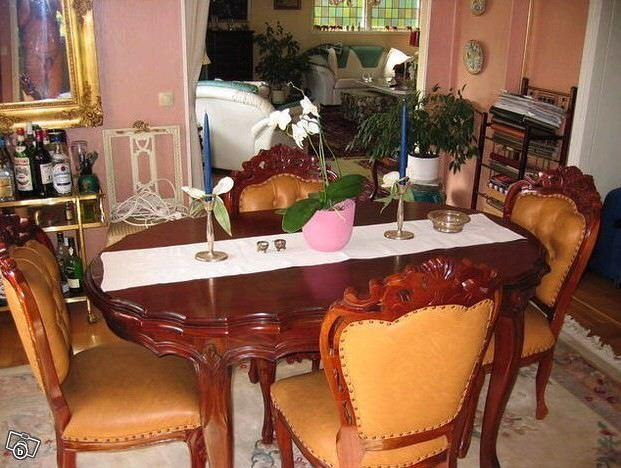table: (84, 204, 550, 468)
